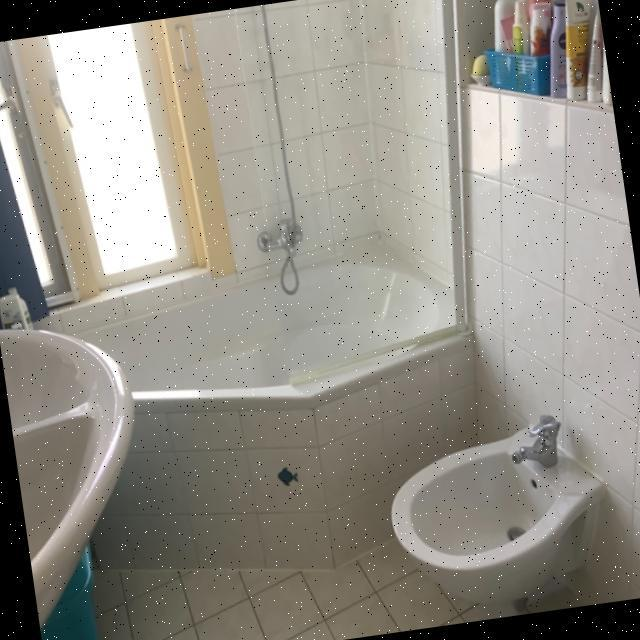bath: (27, 0, 526, 514)
toilet: (379, 404, 620, 631)
wastafel: (0, 309, 162, 628)
